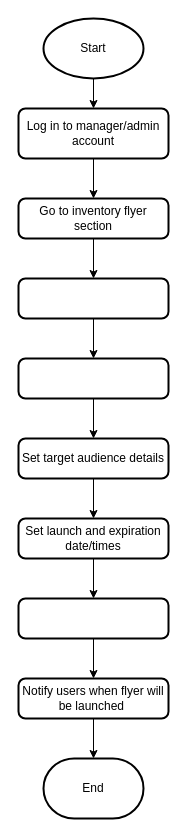
The diagram is 186 pixels wide and 836 high, and some of its shapes have lost their labels. The centre of each missing label's shape, as x and y in pixels:
Click on create new flyer campaign: point (93, 298)
Click on schedule flyer: point (93, 618)
Upload designed flyer: point (93, 378)
